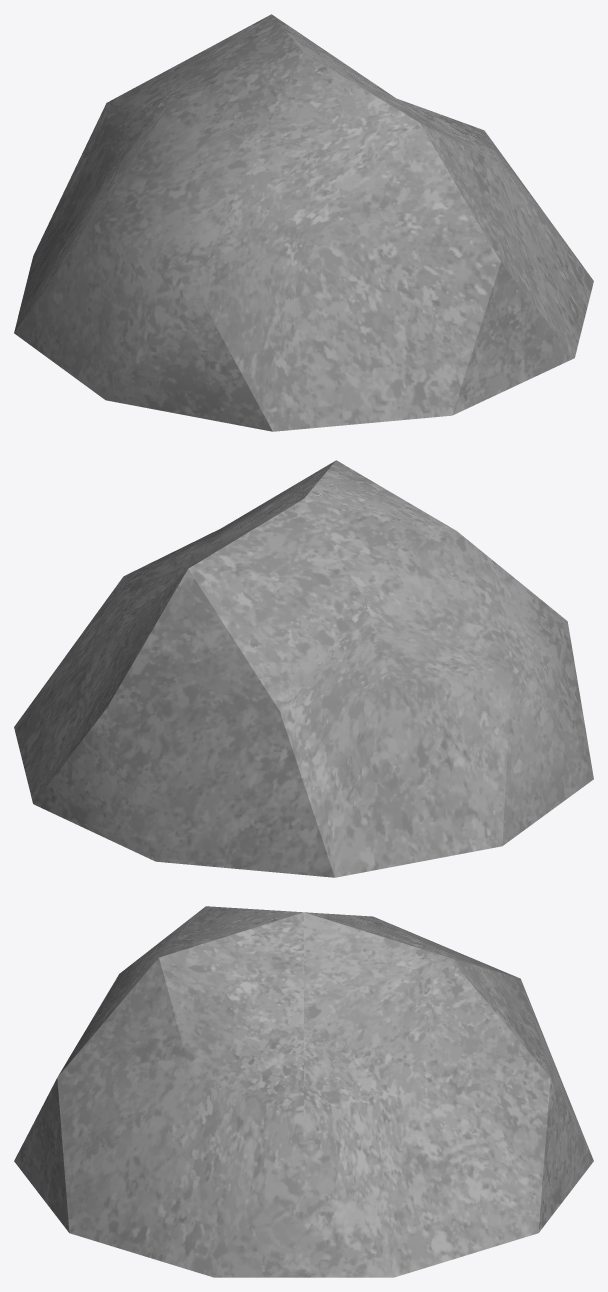
File: Rock.fbx
The picture shows the model from 3 angles, top to bottom: view 1: azimuth 30°, elevation 25°; view 2: azimuth 150°, elevation 25°; view 3: azimuth 270°, elevation 25°; orthographic projection. The views are drawn at different scales.
Visible parts, largest first — view 1: Rock; view 2: Rock; view 3: Rock.
Part boxes in pixels (x1=…): Rock: x1=14, y1=14, x2=593, y2=431; Rock: x1=14, y1=460, x2=593, y2=877; Rock: x1=14, y1=906, x2=593, y2=1277.
Size of the model in its own units: 190 by 94.66 by 200.
